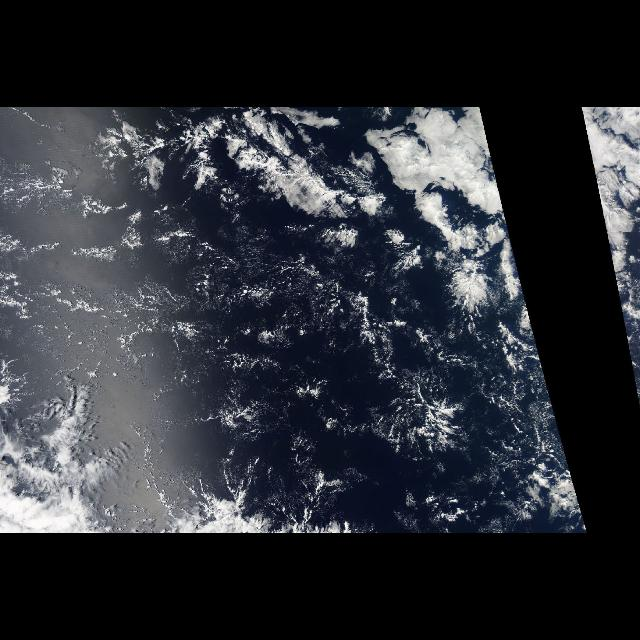Fish: (72, 116, 378, 244)
Gravel: (30, 165, 452, 533)
Sugar: (116, 292, 318, 452)
